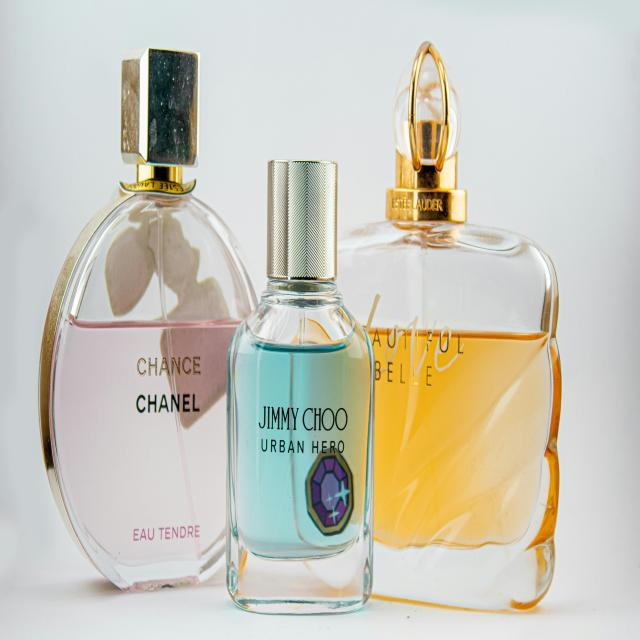electronic: (37, 40, 566, 622)
